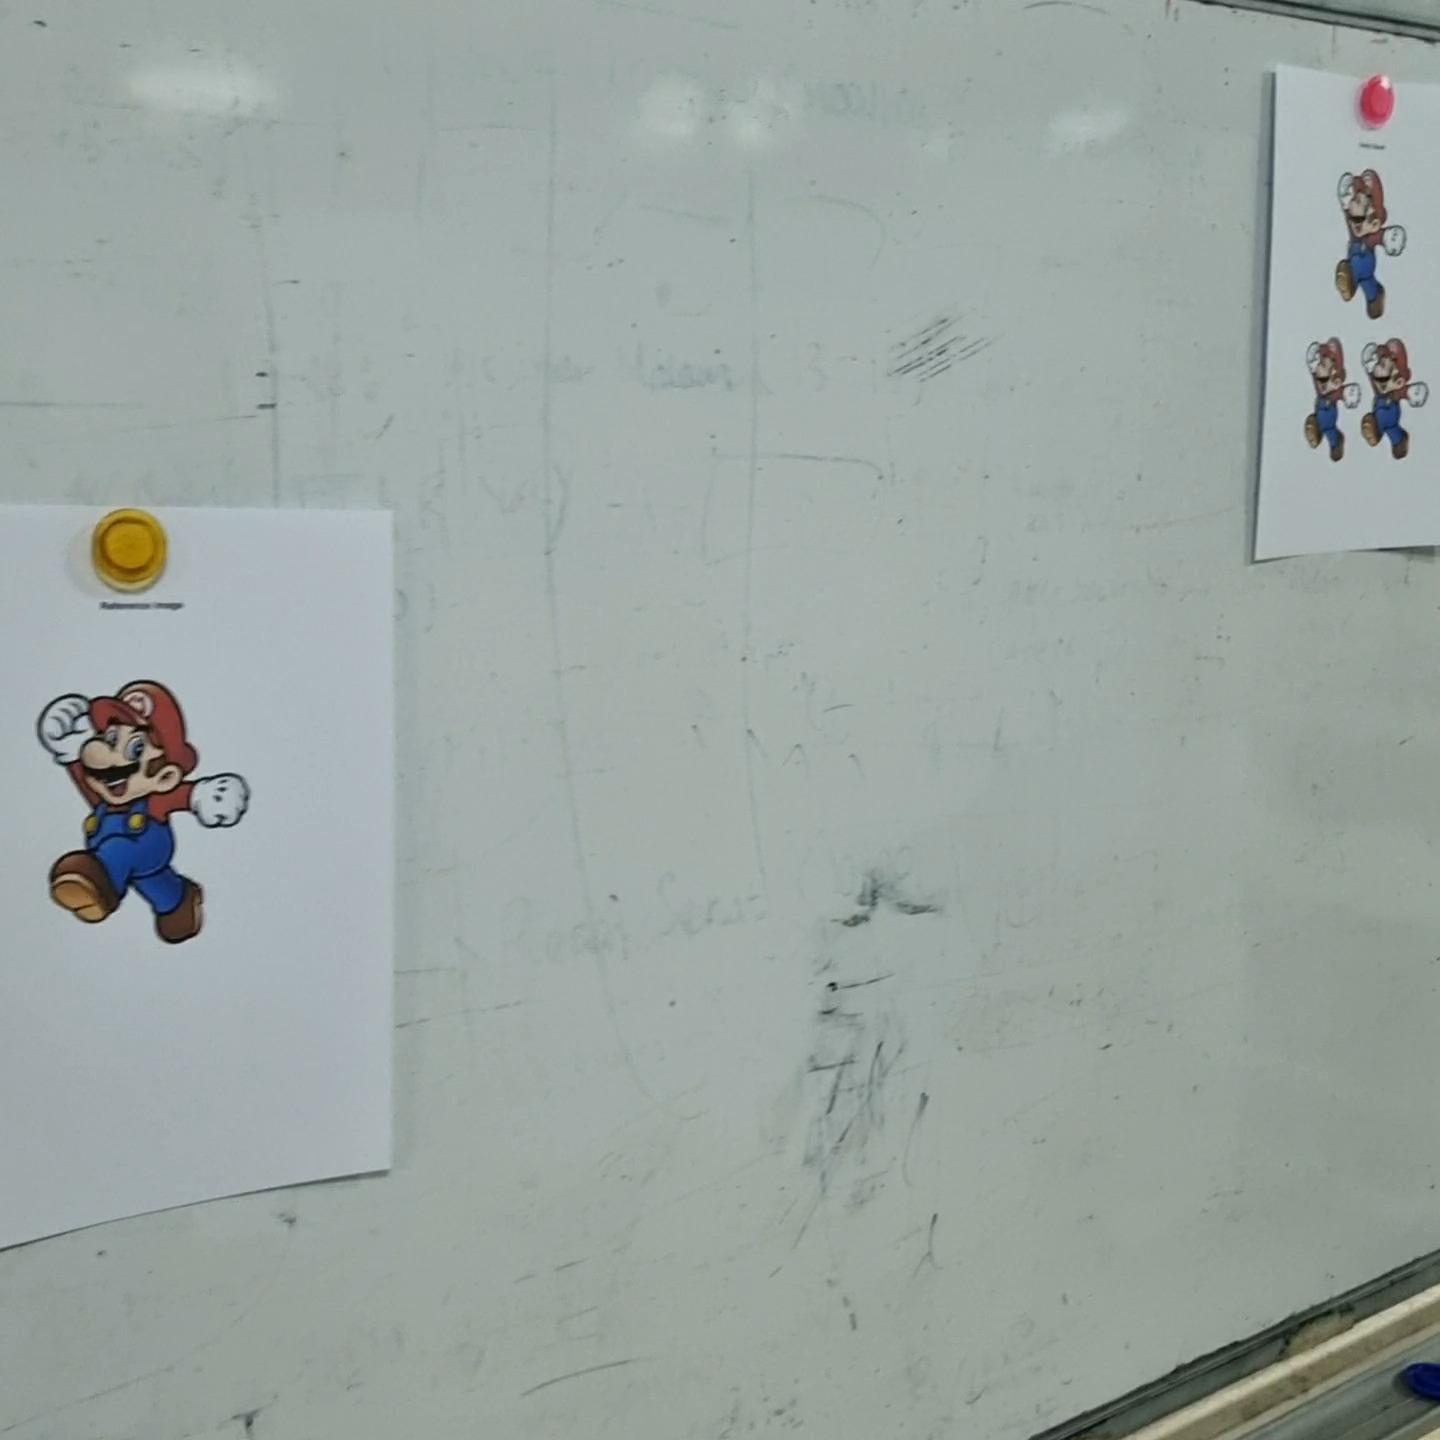mario: (34, 667, 256, 951), (1324, 157, 1414, 323), (1361, 327, 1433, 469), (1298, 327, 1364, 462)
